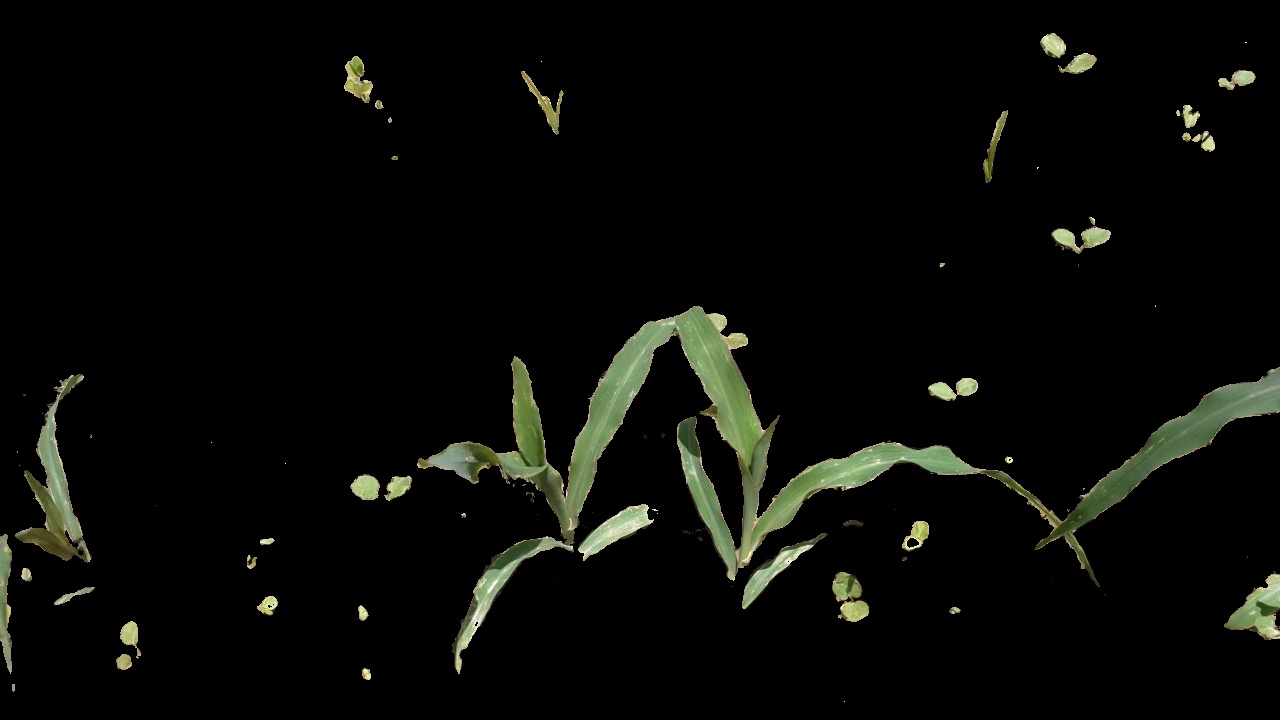crop: (662, 292, 1076, 643), (449, 282, 682, 655), (1, 365, 79, 637)
weed: (518, 66, 582, 133), (1041, 24, 1102, 79), (978, 101, 1009, 195), (343, 53, 391, 111), (1041, 223, 1117, 259), (346, 469, 412, 510), (825, 572, 875, 626), (892, 511, 933, 558), (925, 377, 992, 403), (111, 621, 144, 666), (1217, 61, 1251, 100), (256, 590, 279, 616)
